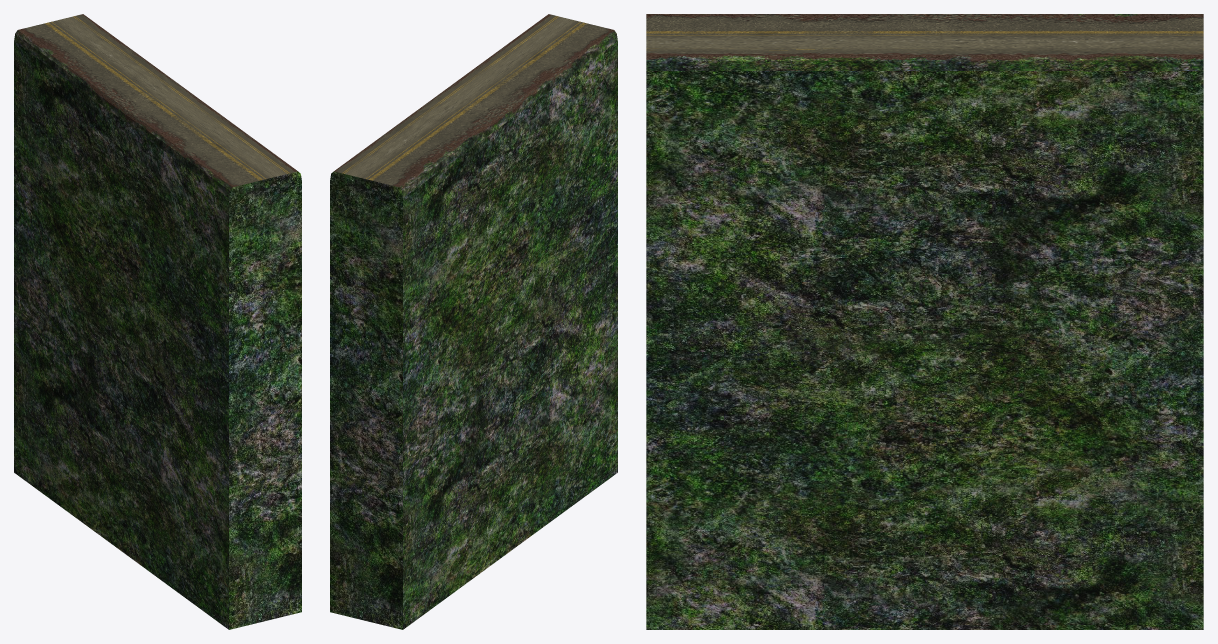
The model's file is Thin.fbx.
3 views of the same model, side by side, from view 1: azimuth 30°, elevation 25°; view 2: azimuth 150°, elevation 25°; view 3: azimuth 270°, elevation 25° (orthographic). The views are drawn at different scales.
Parts seen in each view (by area): view 1: Thin; view 2: Thin; view 3: Thin.
Part boxes in pixels (box(x1,y1,x2,y2)): Thin: box(14, 14, 301, 629); Thin: box(330, 14, 617, 629); Thin: box(646, 14, 1203, 629).
Size of the model in its own units: 34.15 by 198 by 175.
